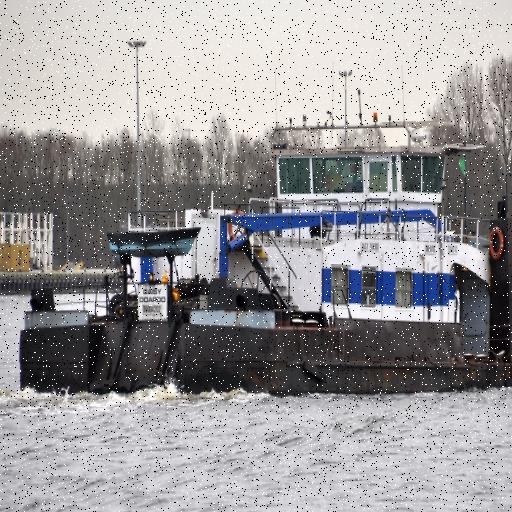tugboat: (14, 112, 512, 407)
